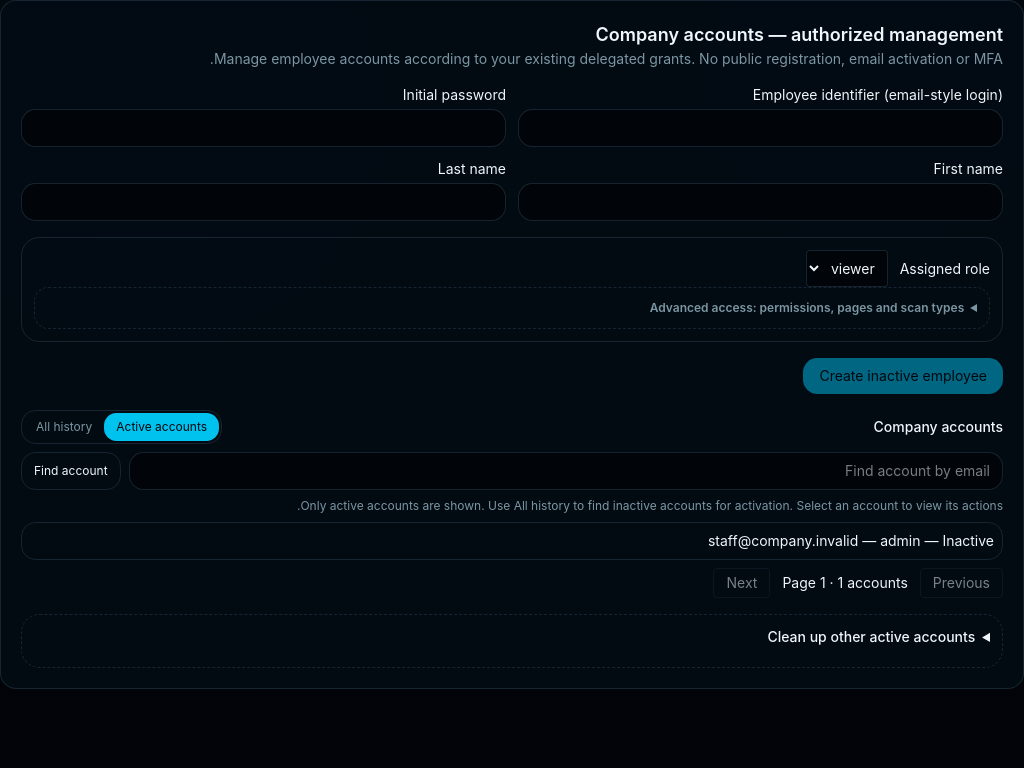
Test case: owner-only company account UI › uses the canonical DELETE route and reports retention honestly
Click the button "staff@company.invalid — admin — Inactive" at (783,540), box [21,522,1003,560]
(page scrolled)
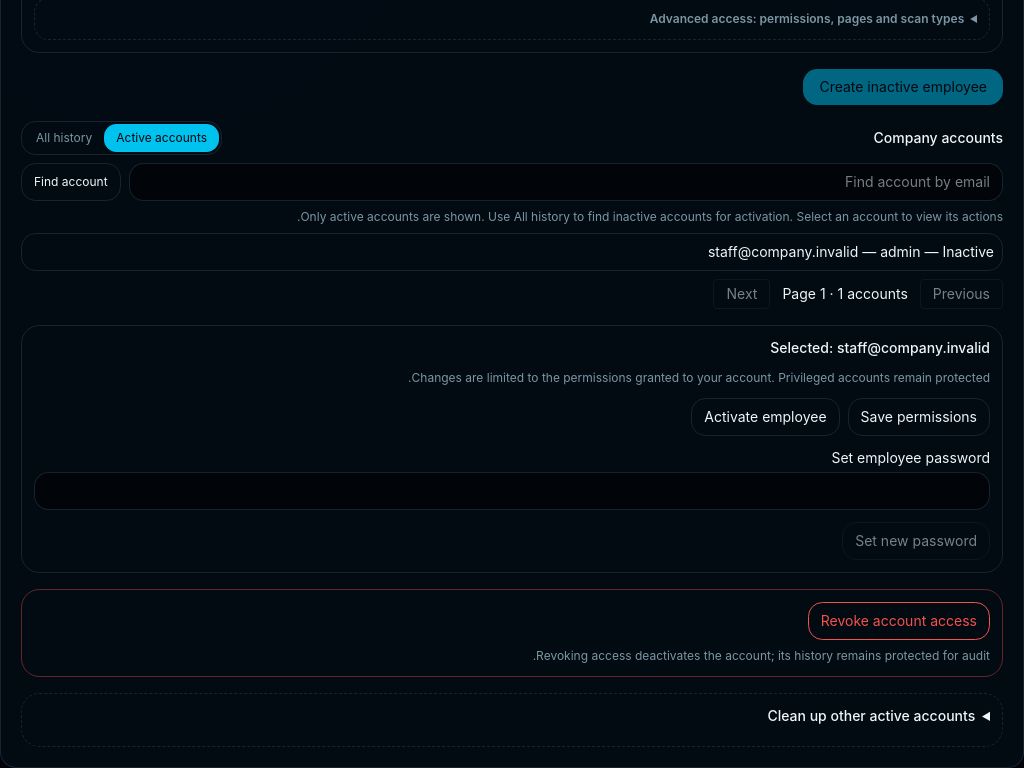
Click the button "Revoke account access" at (899,621), box [808,602,990,640]
(page scrolled)
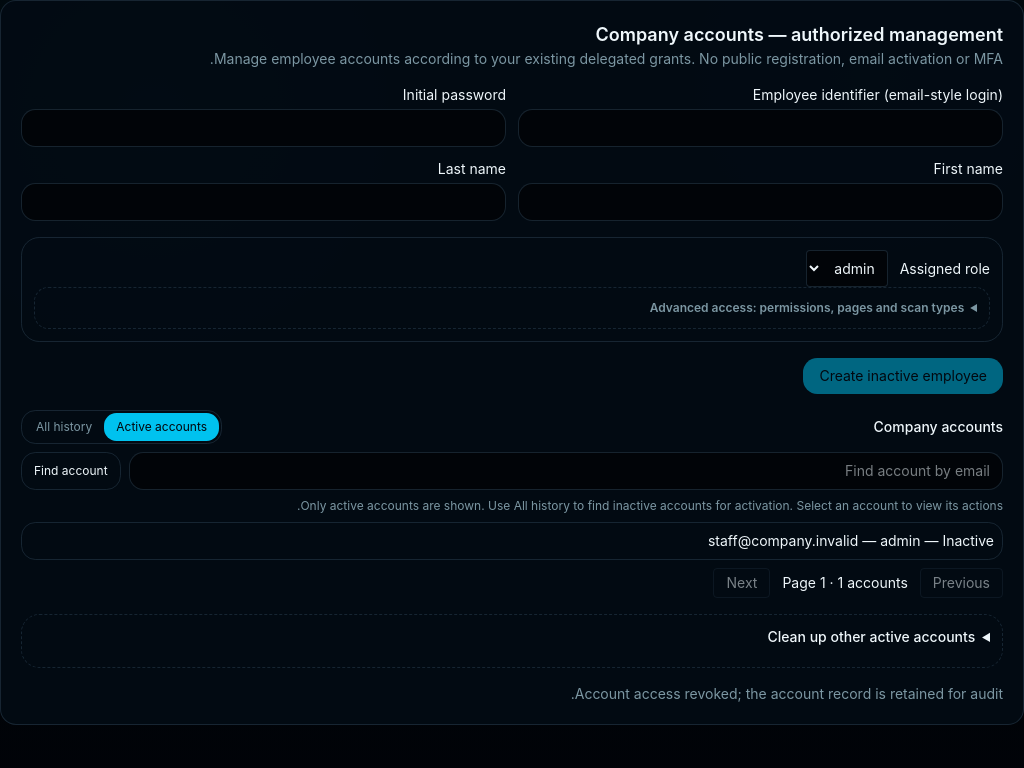
Expected: the message shows "record is retained", [571,685,1003,702]
Expected: the heading "Selected: staff@company.invalid" is gone
